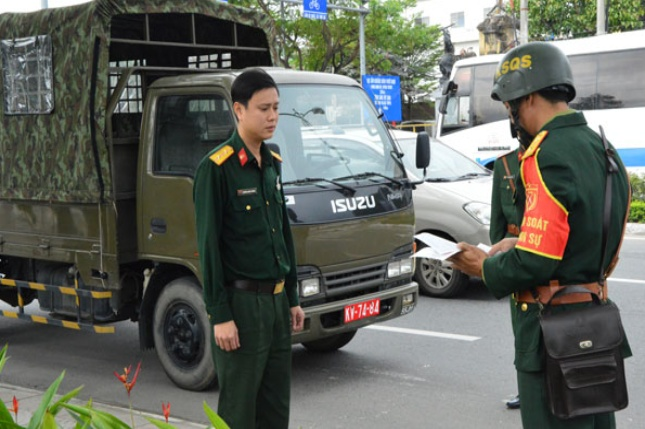plate: (341, 296, 381, 327)
